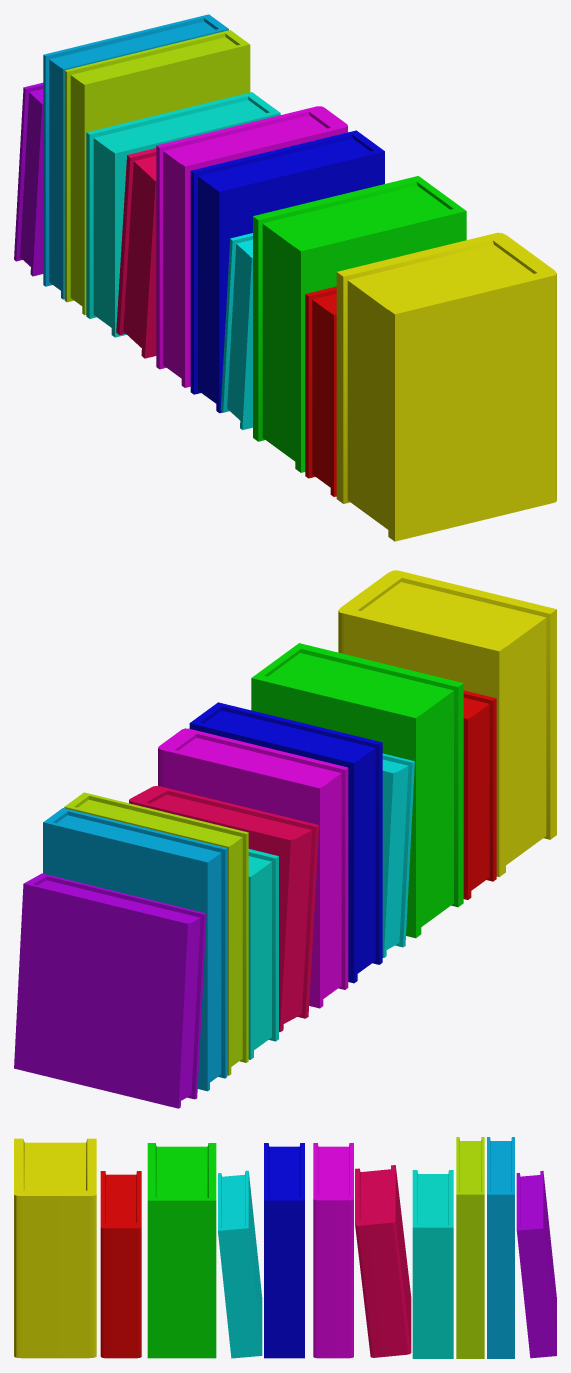
Rendered from book.fbx.
3 views of the same model, one above another, from view 1: azimuth 30°, elevation 25°; view 2: azimuth 150°, elevation 25°; view 3: azimuth 270°, elevation 25° (orthographic). The views are drawn at different scales.
Visible parts, largest first — view 1: book1, book3, book5, book9, book6, book8, book10, book7, book2, book4, book11; view 2: book11, book1, book3, book6, book10, book5, book7, book9, book2, book8, book4; view 3: book1, book3, book5, book6, book7, book8, book2, book4, book9, book10, book11.
Part boxes in pixels (left/top/right/bottom): book1: left=336, top=232, right=556, bottom=541; book3: left=253, top=176, right=466, bottom=472; book5: left=190, top=130, right=384, bottom=413; book9: left=64, top=30, right=250, bottom=315; book6: left=156, top=106, right=347, bottom=387; book8: left=86, top=92, right=280, bottom=337; book10: left=43, top=14, right=228, bottom=299; book7: left=116, top=148, right=156, bottom=358; book2: left=305, top=286, right=336, bottom=496; book4: left=220, top=233, right=252, bottom=429; book11: left=14, top=82, right=43, bottom=276; book11: left=14, top=873, right=206, bottom=1108; book1: left=338, top=570, right=556, bottom=877; book3: left=251, top=643, right=463, bottom=938; book6: left=158, top=728, right=348, bottom=1008; book10: left=43, top=808, right=227, bottom=1091; book5: left=189, top=702, right=382, bottom=983; book7: left=129, top=786, right=319, bottom=1032; book9: left=64, top=792, right=248, bottom=1075; book2: left=463, top=690, right=496, bottom=899; book8: left=248, top=849, right=278, bottom=1059; book4: left=382, top=753, right=414, bottom=957; book1: left=14, top=1138, right=96, bottom=1358; book3: left=147, top=1143, right=216, bottom=1358; book5: left=264, top=1143, right=304, bottom=1358; book6: left=313, top=1143, right=353, bottom=1358; book7: left=355, top=1165, right=411, bottom=1357; book8: left=412, top=1170, right=453, bottom=1358; book2: left=100, top=1171, right=141, bottom=1358; book4: left=218, top=1170, right=262, bottom=1358; book9: left=456, top=1137, right=484, bottom=1358; book10: left=487, top=1137, right=514, bottom=1358; book11: left=516, top=1171, right=556, bottom=1358.
Bounding box in the file's own units: 0.307 × 0.408 × 1.22.
